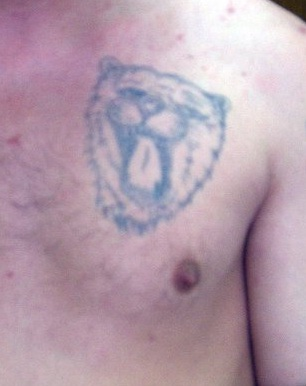tatu5_tigr: (64, 29, 241, 249)
